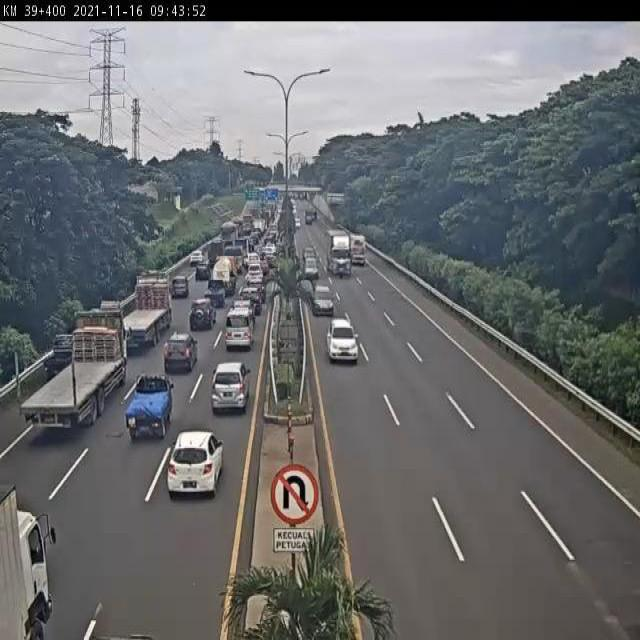car: (167, 432, 225, 500), (125, 376, 176, 443), (210, 361, 249, 415), (164, 332, 199, 375), (327, 320, 358, 364), (223, 310, 252, 350), (189, 296, 216, 332), (311, 284, 335, 319), (206, 280, 226, 307), (170, 275, 190, 301)
truck-l-: (18, 311, 135, 432), (122, 270, 176, 350)
